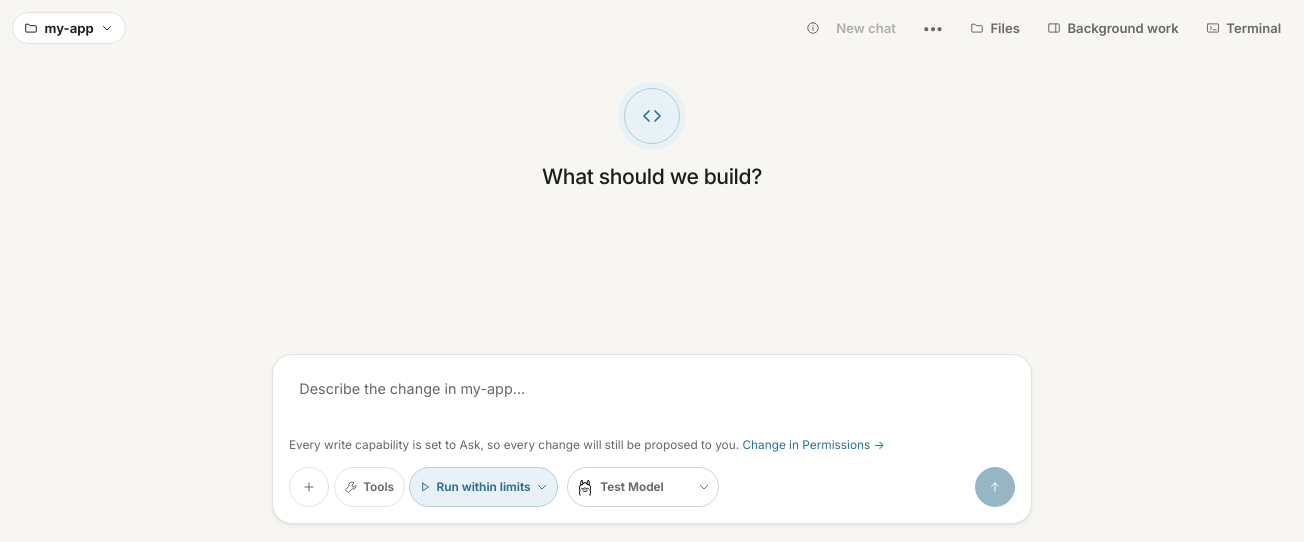
Scenario: Build's artifact zone › says a folder under no version control is not the same as no changes
The width and height of the screenshot is (1304, 542).
Click the button named "Add to this turn" at (309, 487), box [289,467,329,507]
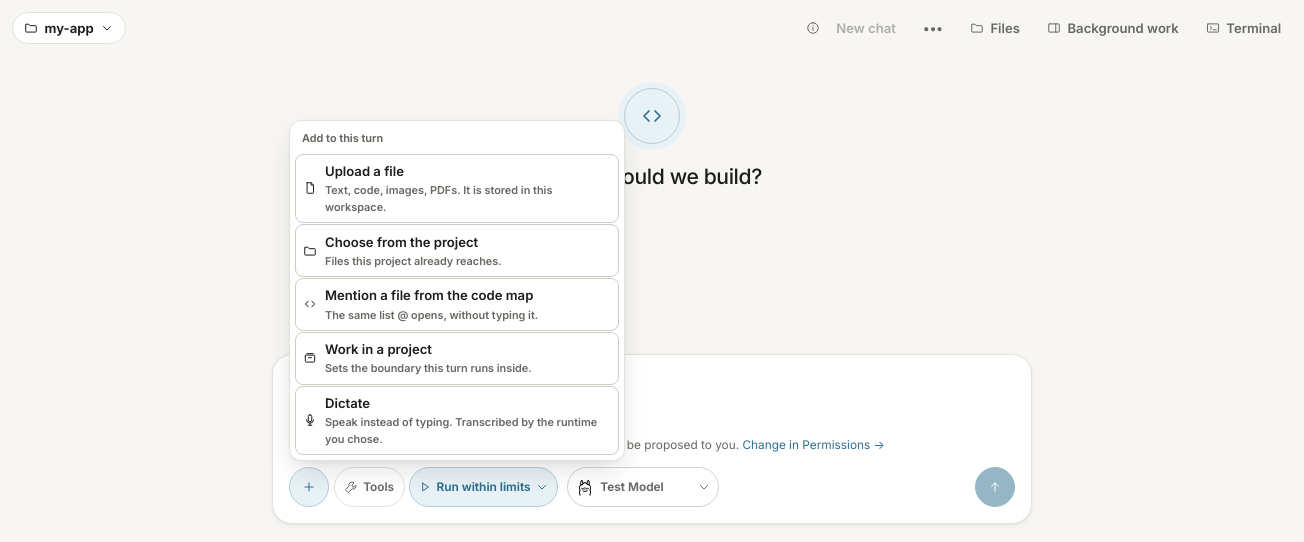
Click the menu item "Work in a project" at (378, 349), box [295,332,619,385]
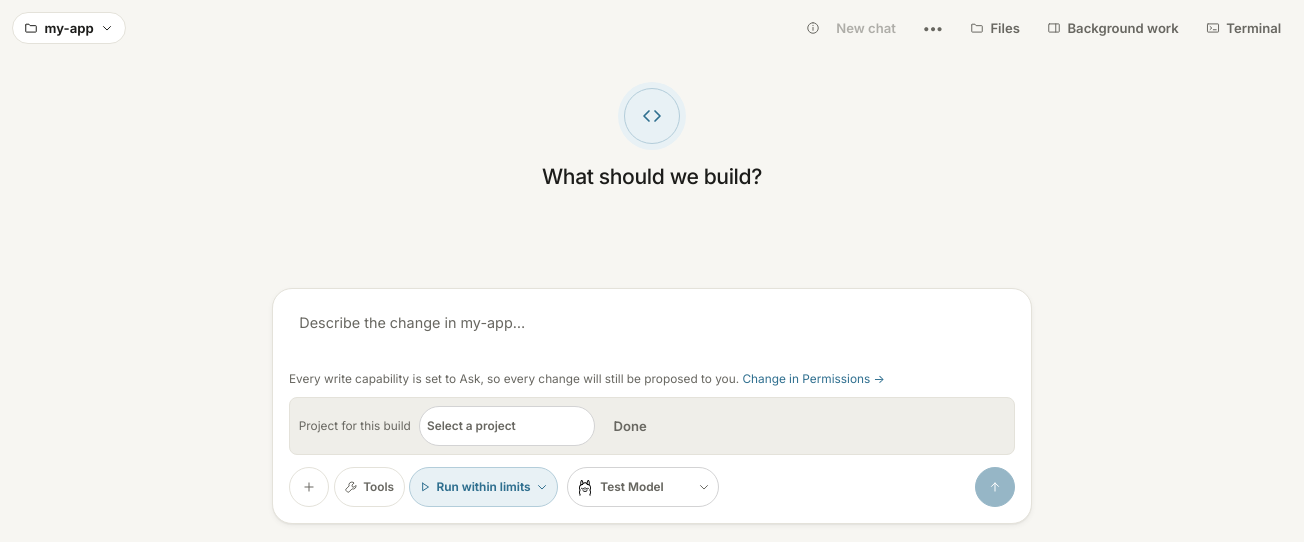
Select "Landing page" in the dropdown labelled "Project for this build" at (507, 426), box [419,406,595,446]
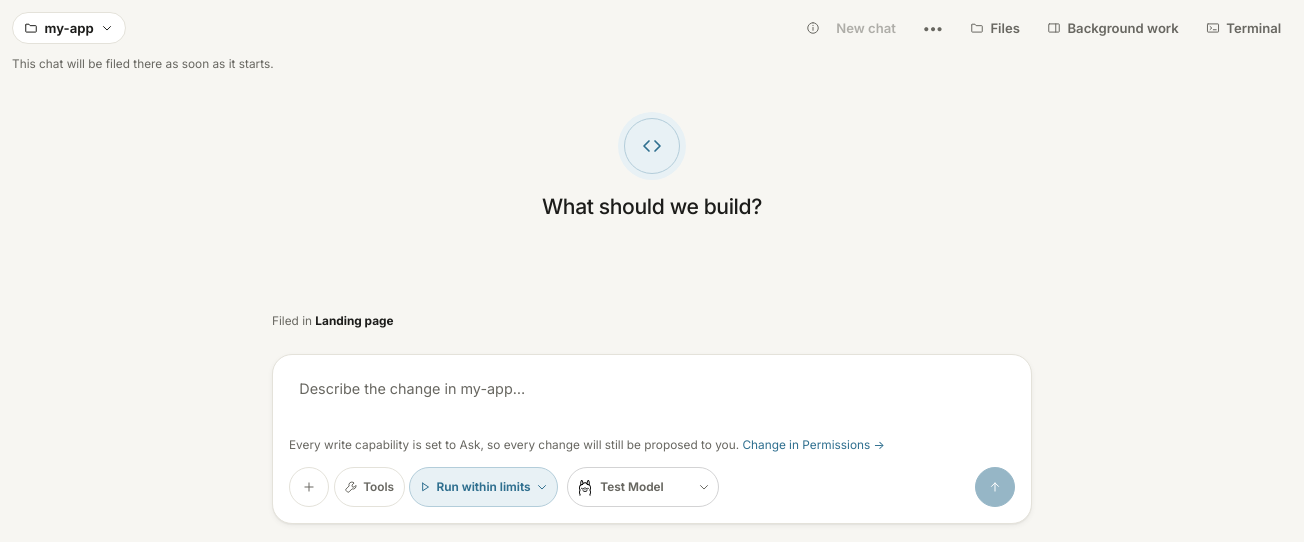
Click the button "Background work" at (1113, 28), box [1036,12,1190,44]
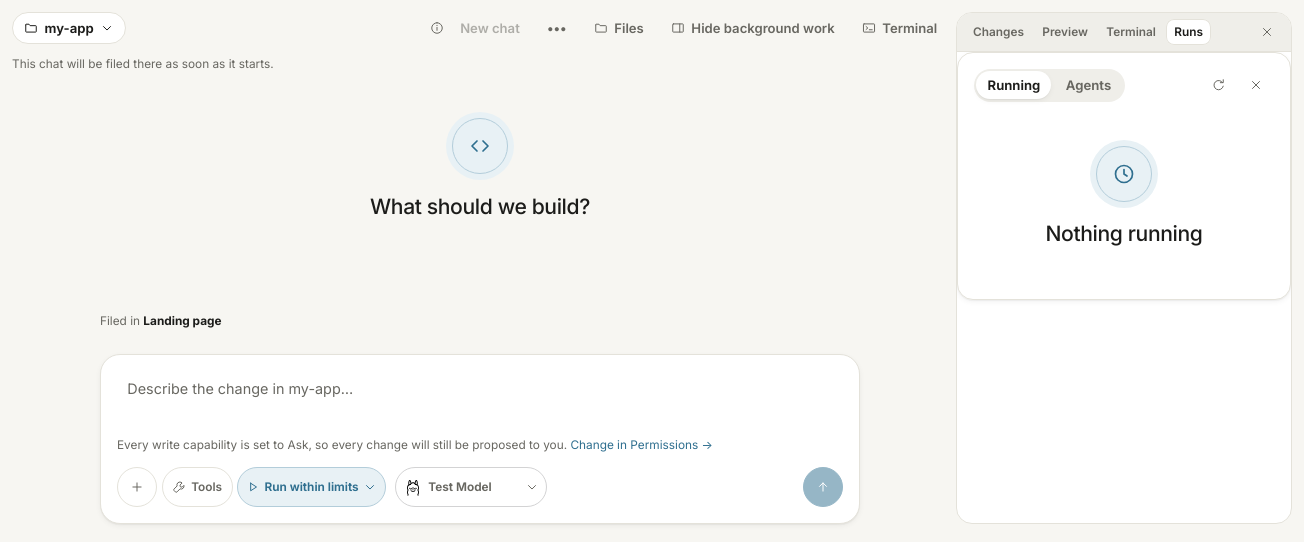
Click the tab "Changes" at (998, 32), box [965,19,1032,45]
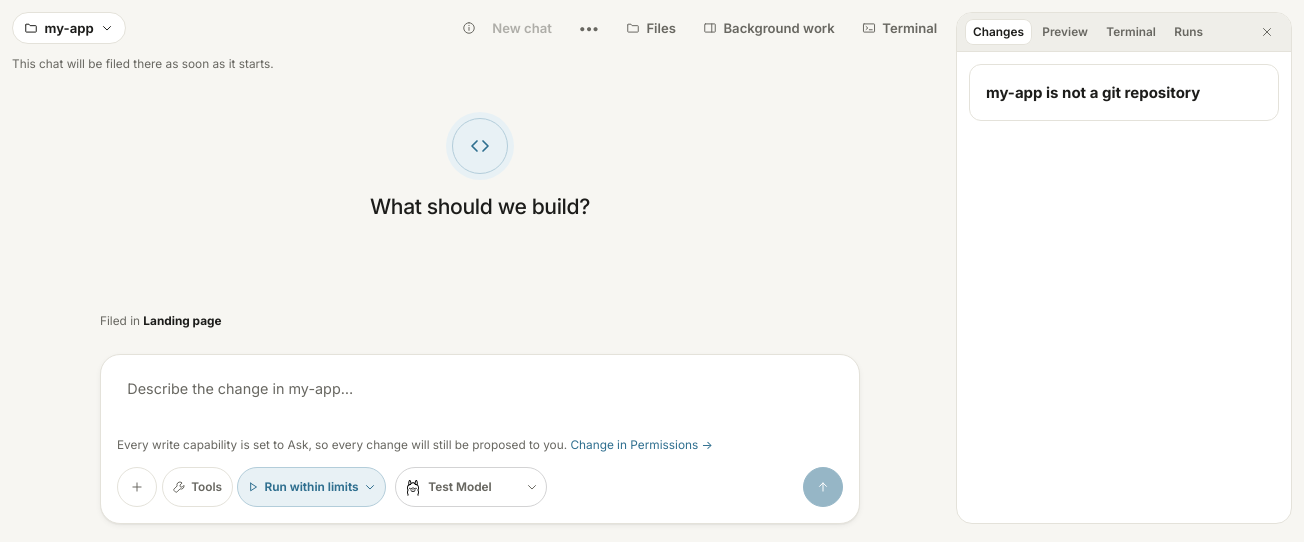
expect the text "my-app is not a git repository" is shown: met, box [986,82,1200,102]
